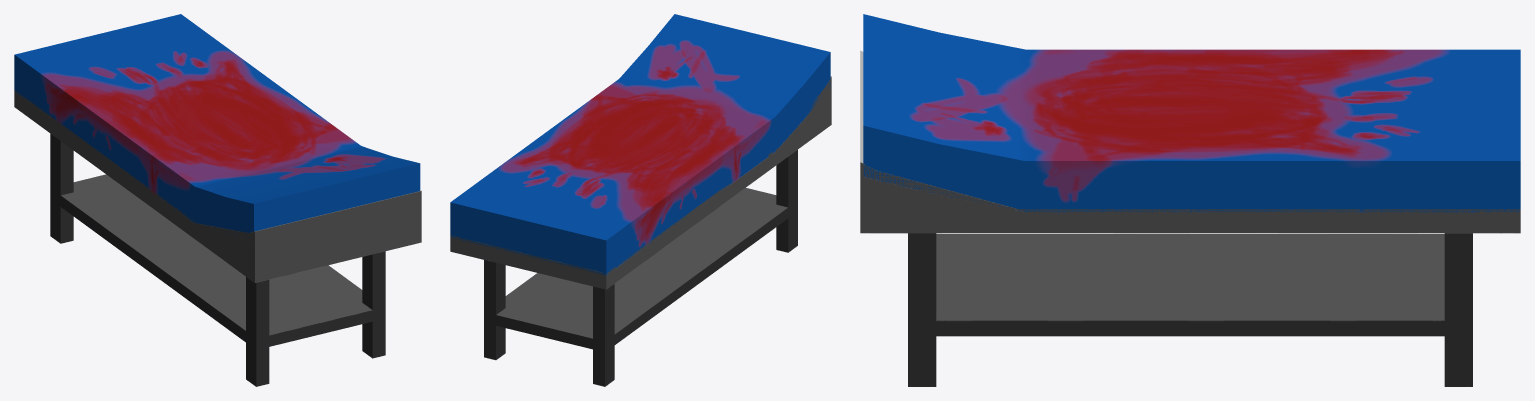
The model's file is Surgical_Bed.fbx.
3 renders of one model, left to right at view 1: azimuth 30°, elevation 25°; view 2: azimuth 150°, elevation 25°; view 3: azimuth 270°, elevation 25°, orthographic. The views are drawn at different scales.
Visible parts, largest first — view 1: Surgical_Table; view 2: Surgical_Table; view 3: Surgical_Table.
Part boxes in pixels (bbox=[...]): Surgical_Table: bbox=[14, 14, 421, 386]; Surgical_Table: bbox=[450, 14, 831, 386]; Surgical_Table: bbox=[860, 14, 1520, 386].
Size of the model in its own units: 1 by 1.14 by 2.5.
Materials: 1 (1 with a texture image).
